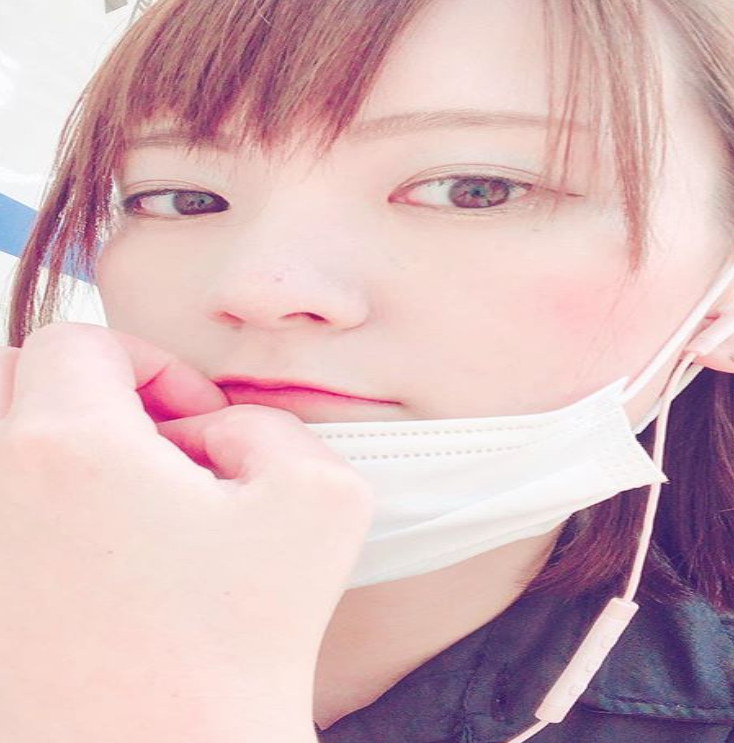mask_weared_incorrect: (85, 0, 734, 575)
